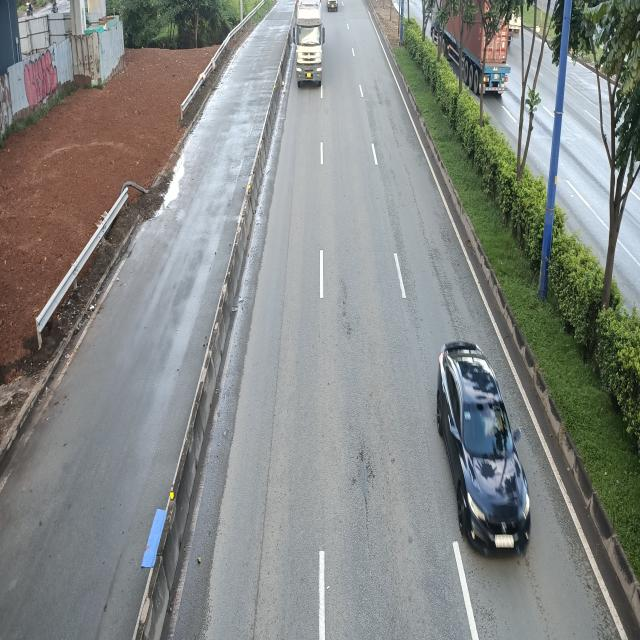car: (436, 343, 532, 553)
container: (292, 0, 324, 87)
